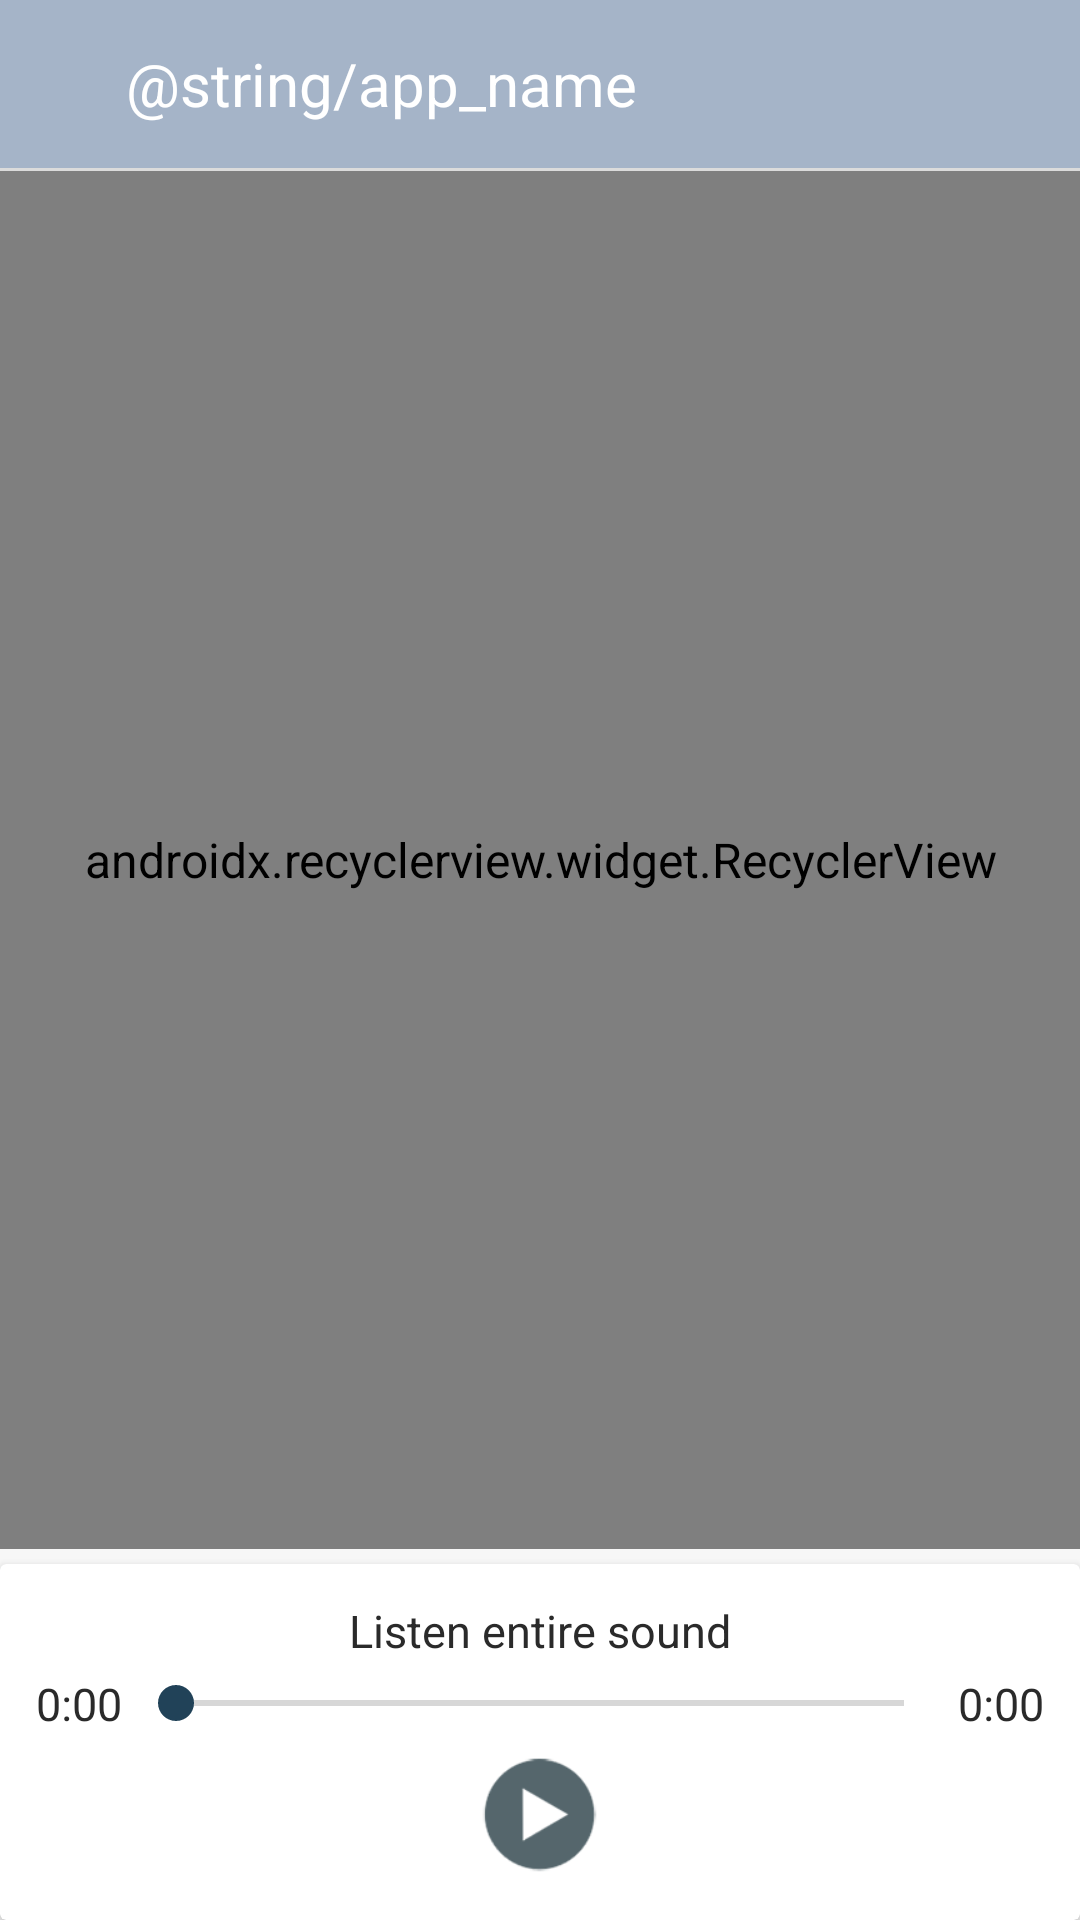

Named icons in this screenshot (1080 × 1920) and their bounding boxes, (x1, y1, x2, y2):
play: (484, 1758, 596, 1871)
